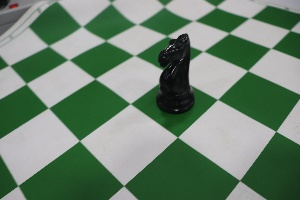black_horse: (148, 20, 199, 119)
